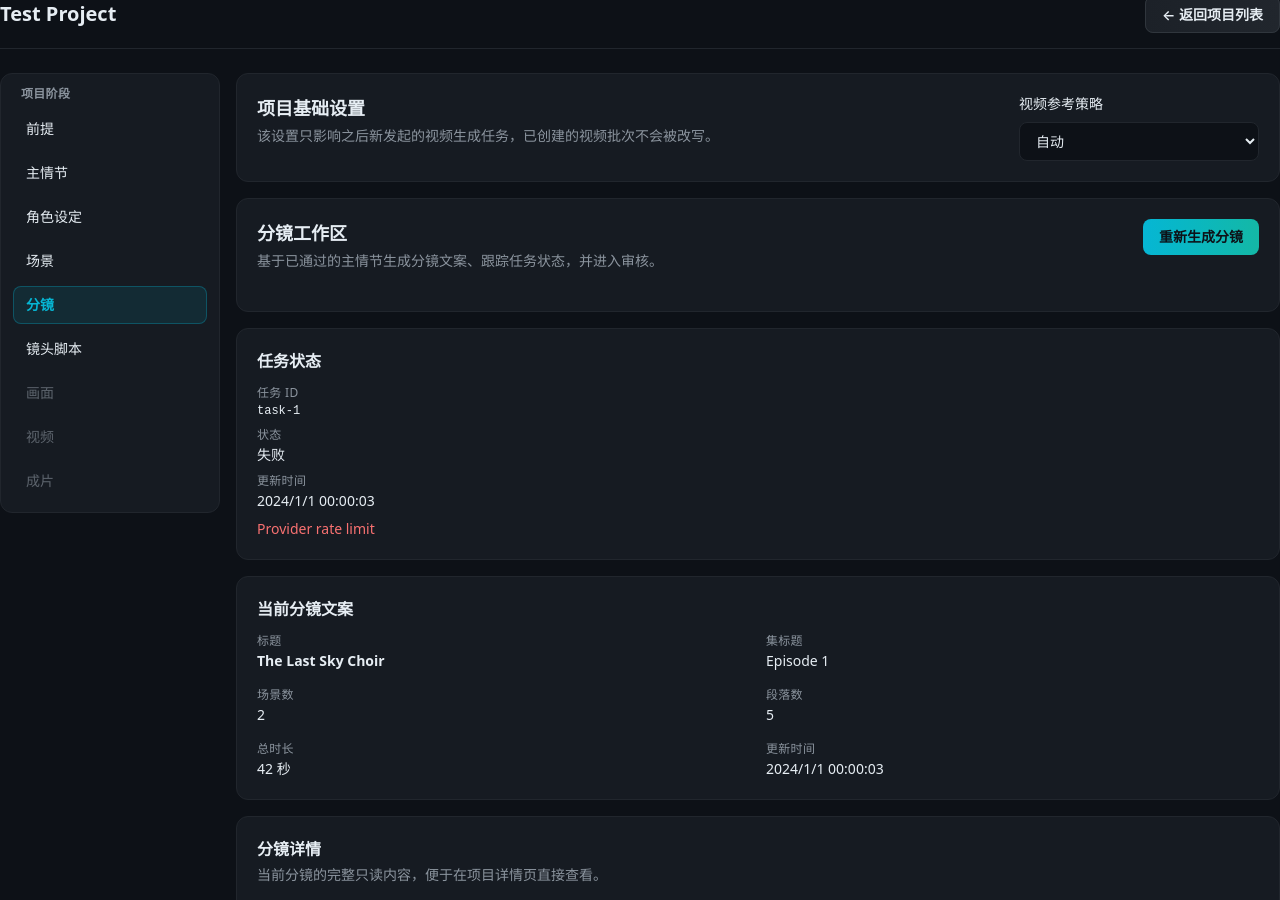
Test case: Project Detail Page › starts shot-script regeneration from the shot-script panel
Click the button "镜头脚本" at (110, 349), box [13,330,207,368]
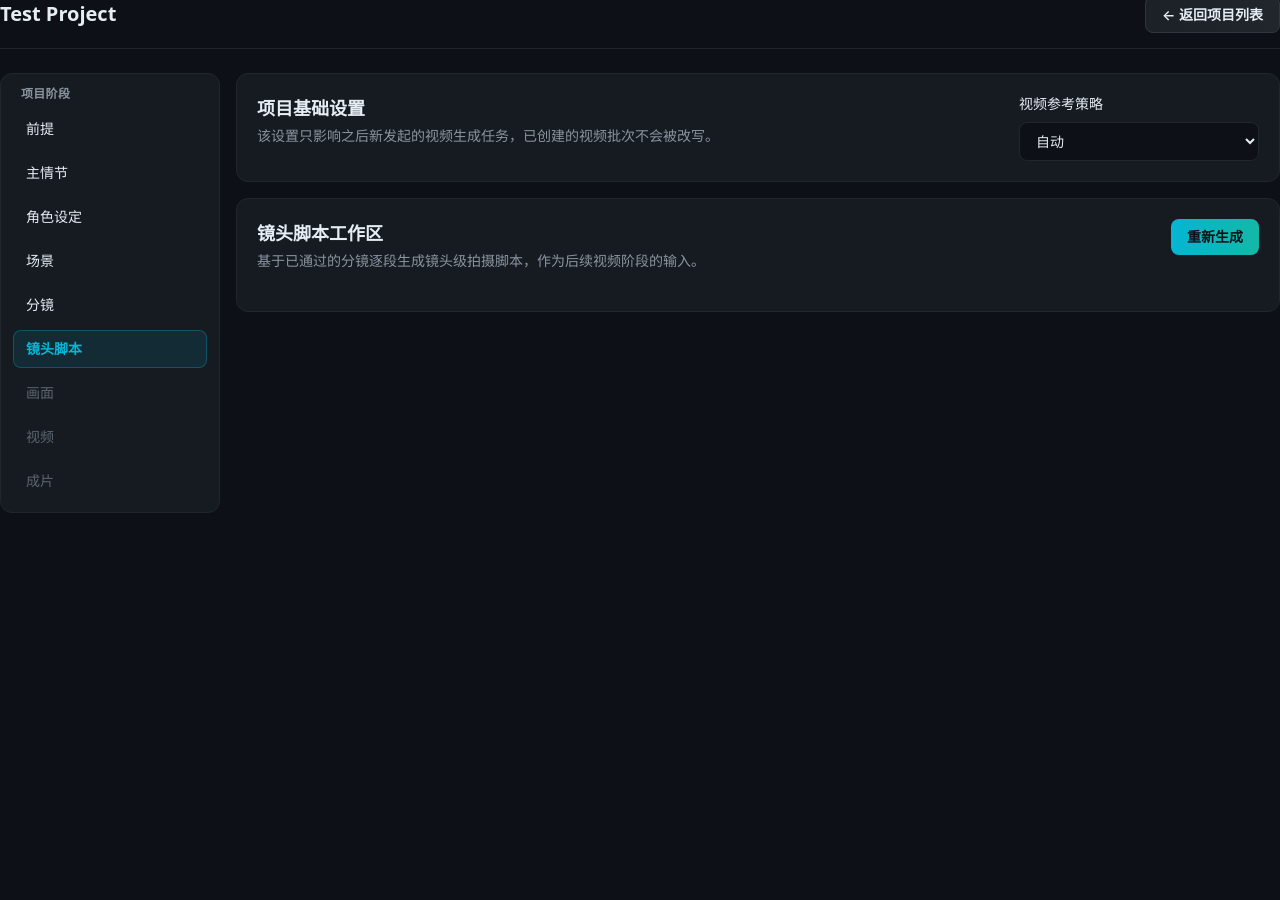
Click the button "重新生成" at (1215, 237), box [1171,219,1259,255]
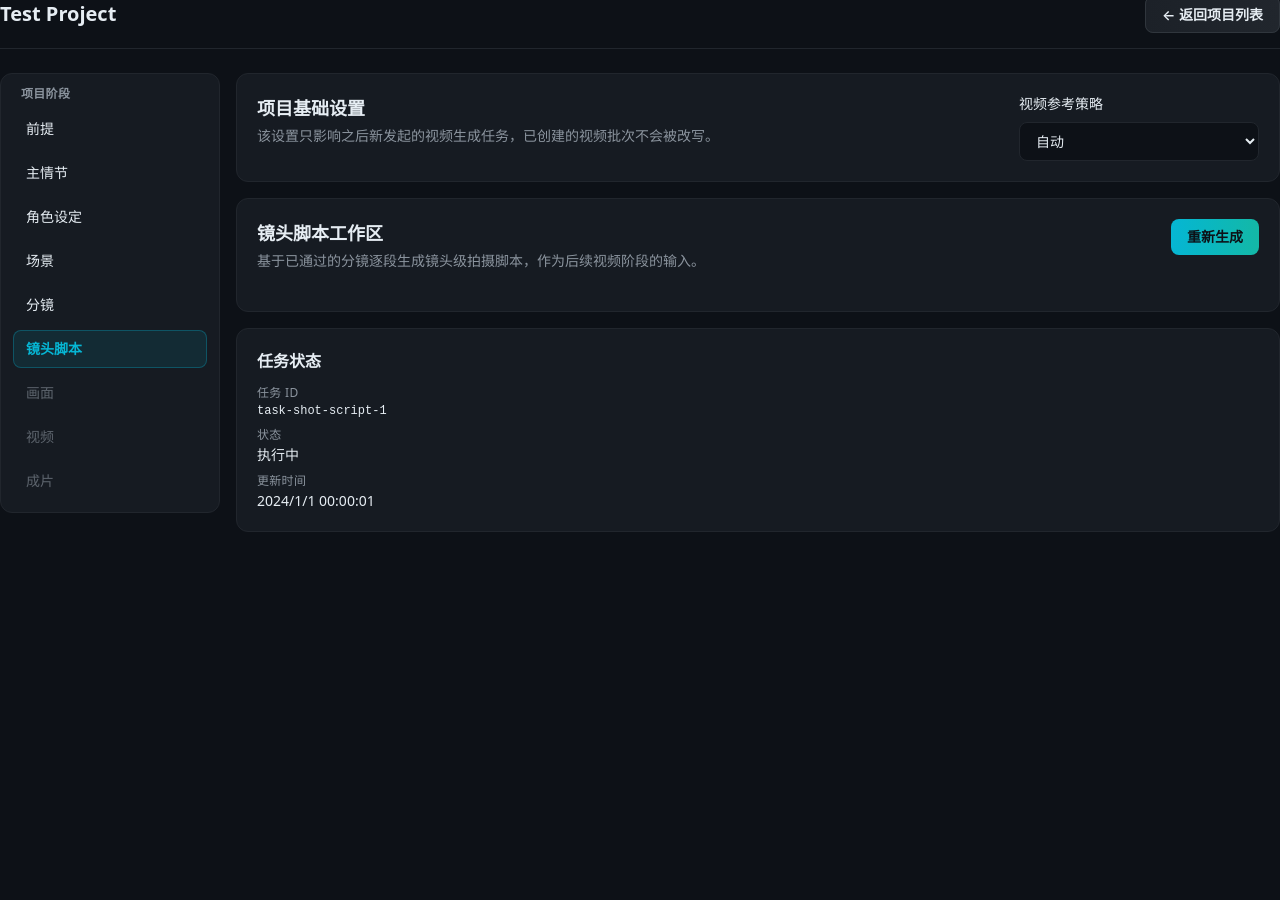
Now the heading "任务状态" is shown, box [257,350,321,372]
Now the text "执行中" is shown, box [257,445,299,464]
